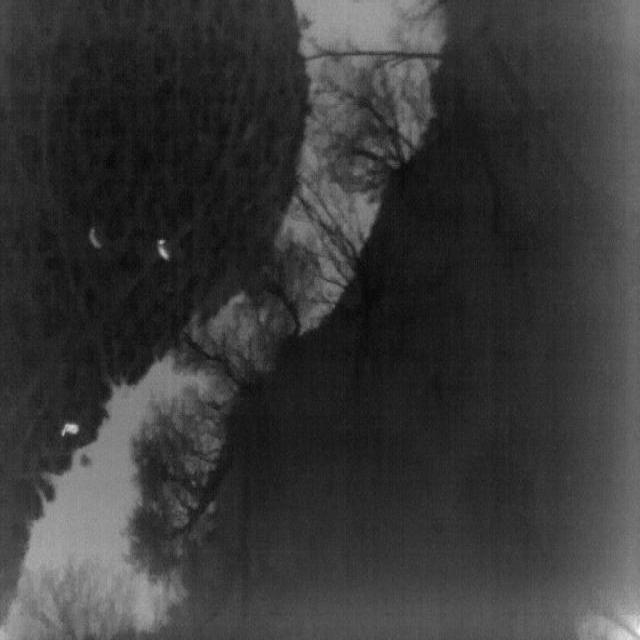deer: (157, 238, 171, 262), (88, 228, 102, 250), (61, 422, 80, 437)
